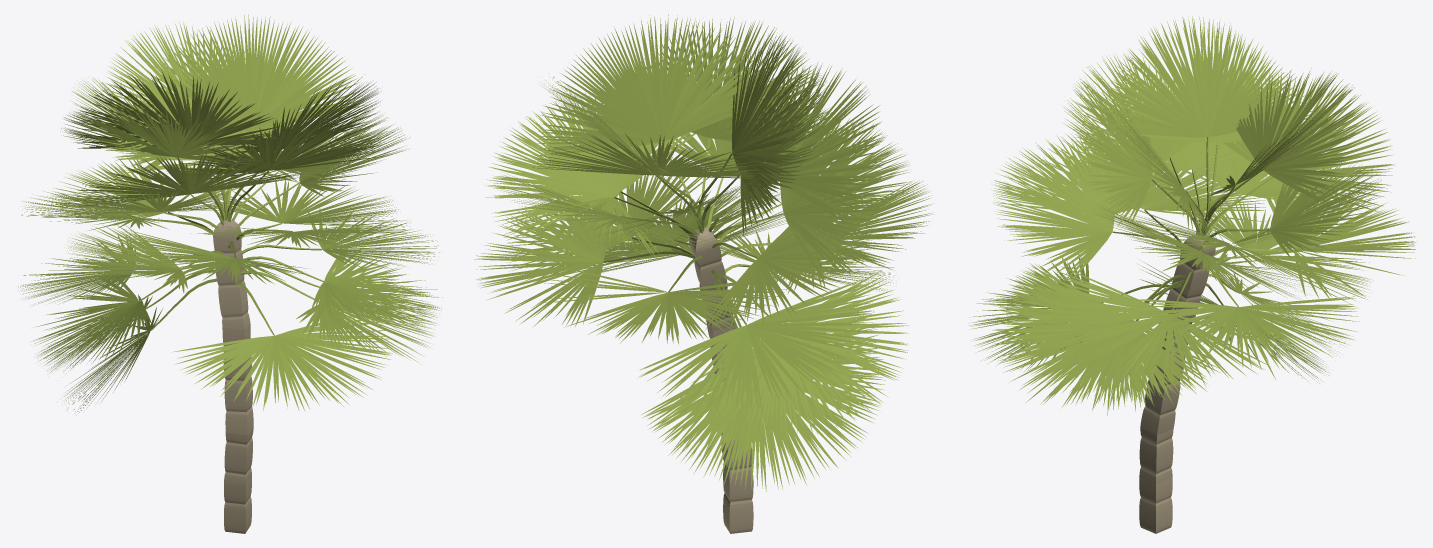
The model's file is sweethome3d-trees-fan-palm-tree.glb.
3 views of the same model, side by side, from view 1: azimuth 30°, elevation 25°; view 2: azimuth 150°, elevation 25°; view 3: azimuth 270°, elevation 25° (orthographic). The views are drawn at different scales.
Parts seen in each view (by area): view 1: leaves2, leaves, trunk, stems_1; view 2: leaves2, leaves, trunk, stems_1; view 3: leaves2, trunk, stems_1, leaves.
Part boxes in pixels (x1,y1,x2,y2): leaves2: [18, 14, 442, 415]; leaves: [41, 69, 383, 217]; trunk: [213, 220, 253, 533]; stems_1: [134, 130, 323, 335]; leaves2: [474, 14, 934, 491]; leaves: [532, 76, 785, 235]; trunk: [689, 227, 753, 533]; stems_1: [603, 138, 783, 328]; leaves2: [968, 16, 1415, 415]; trunk: [1139, 234, 1215, 533]; stems_1: [1101, 137, 1294, 321]; leaves: [1137, 109, 1329, 383].
Size of the model in its own units: 5.23 by 6.38 by 5.46.
